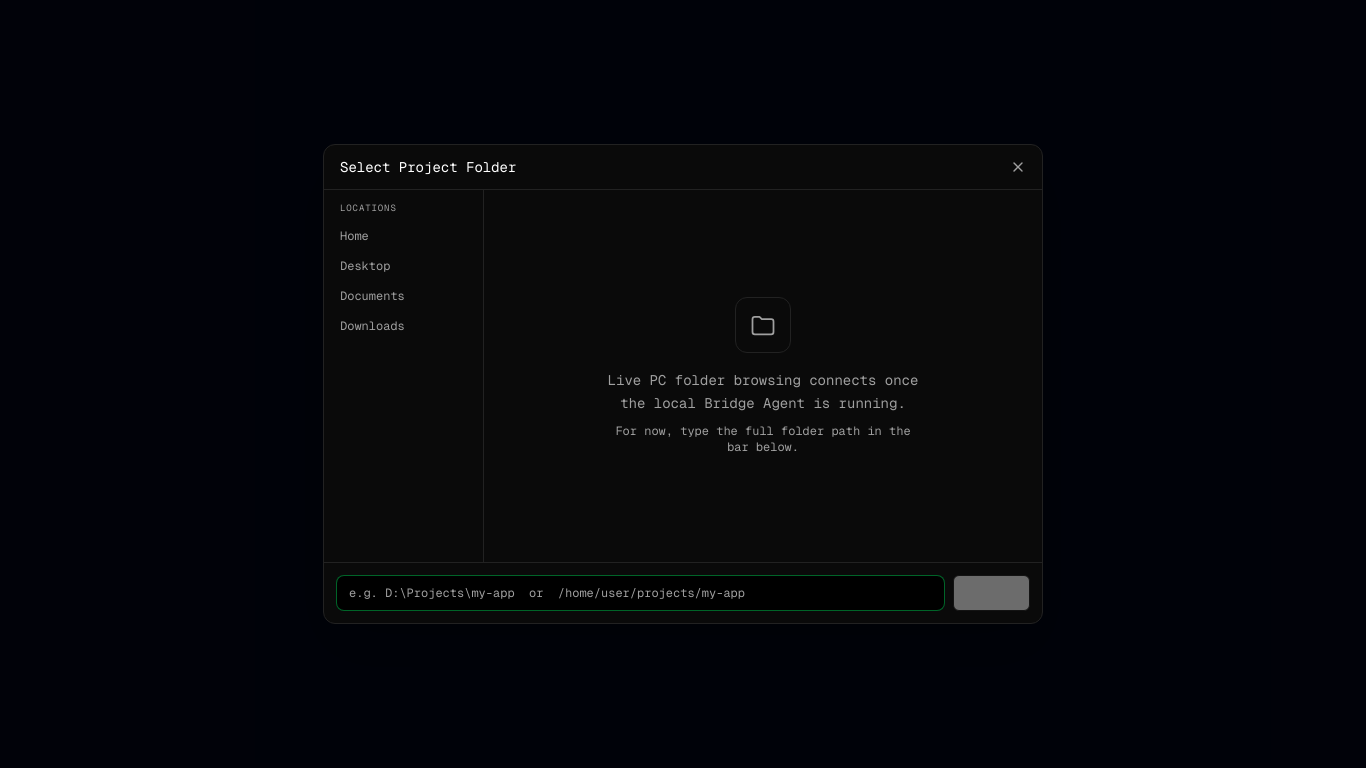
Test: BrowsePCModal quick locations and state updates › T2.1: updates manualPath when quick locations are clicked
// Click on "Desktop"
Click the button "Desktop".
click(404, 266)  # box [332,252,475,280]
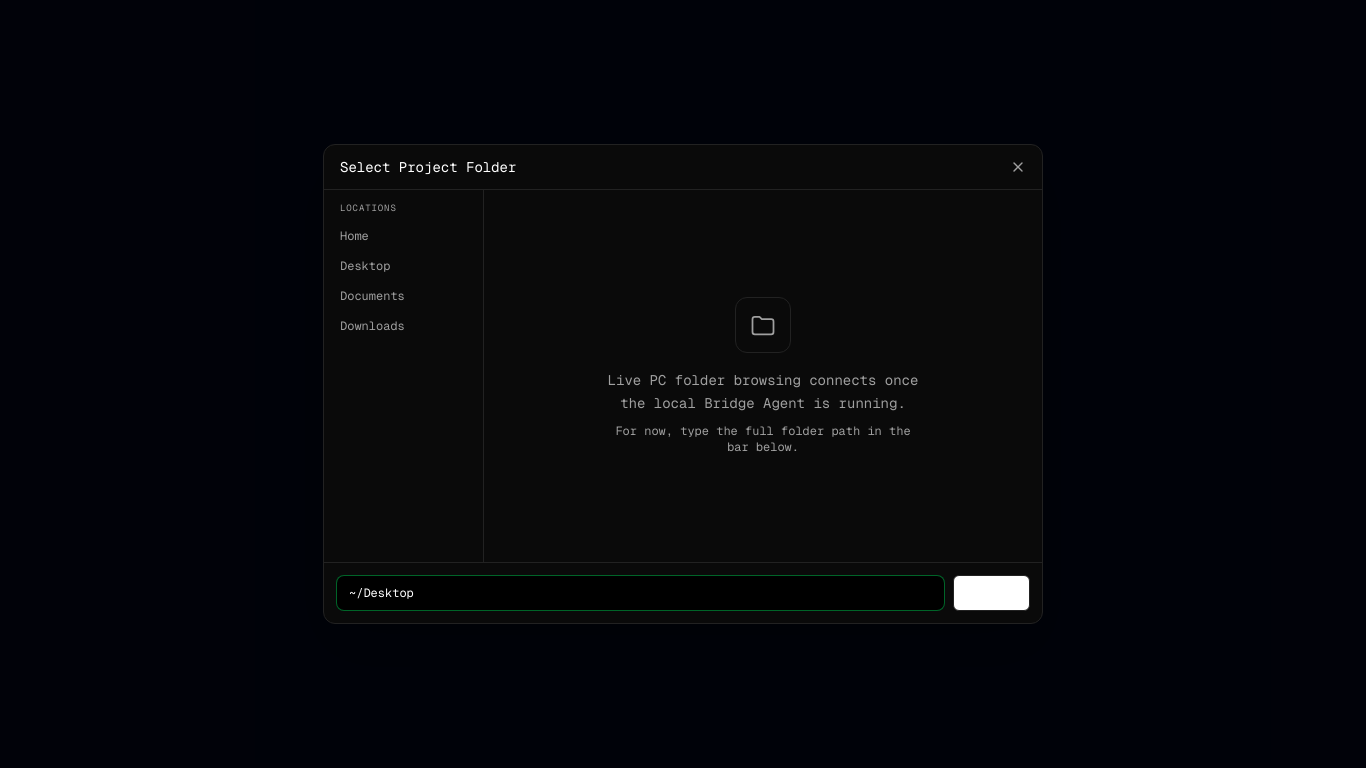
Expected: the field with placeholder "e.g. D:\\Projects\\my-app or /home/user/projects/my-app" holds "~/Desktop", [336,575,945,611]
// Click on "Home"
Click the button "Home".
click(404, 236)  # box [332,222,475,250]
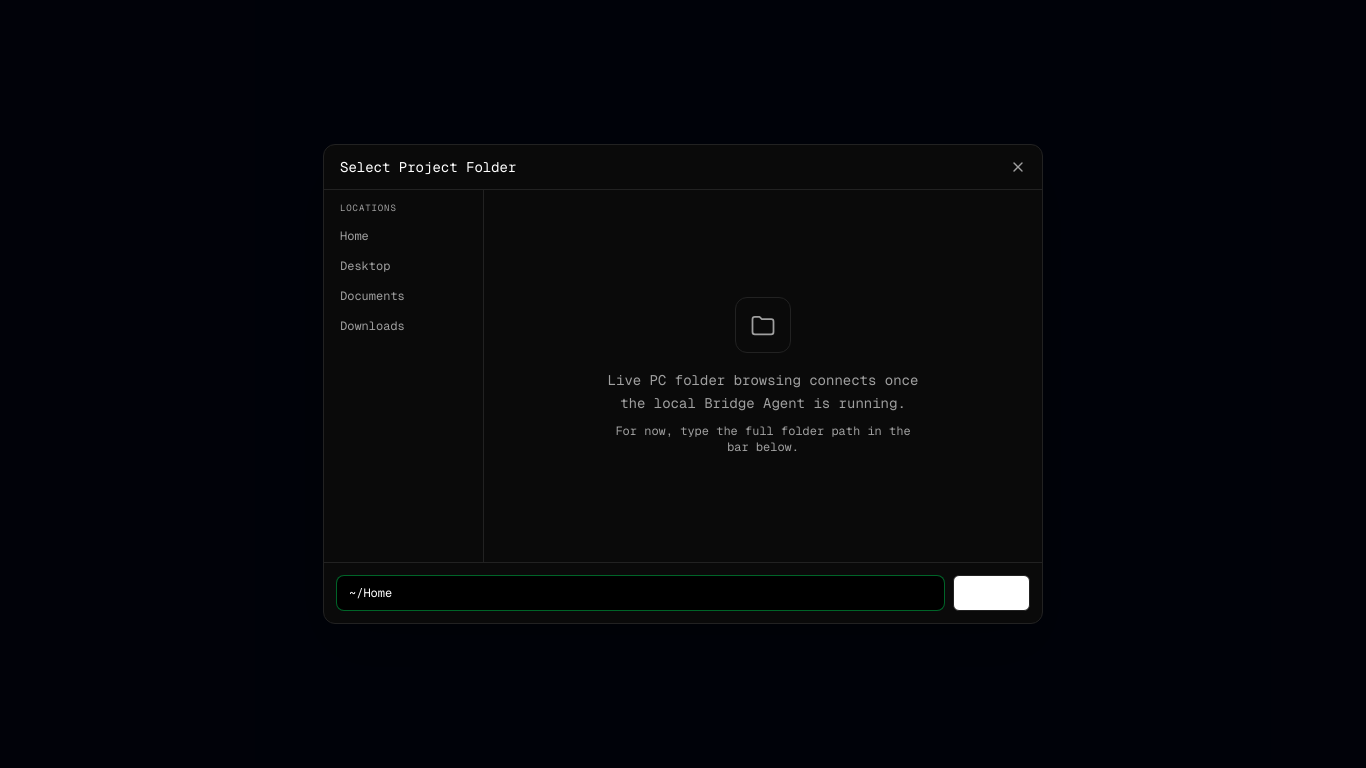
Expected: the field with placeholder "e.g. D:\\Projects\\my-app or /home/user/projects/my-app" holds "~/Home", [336,575,945,611]
